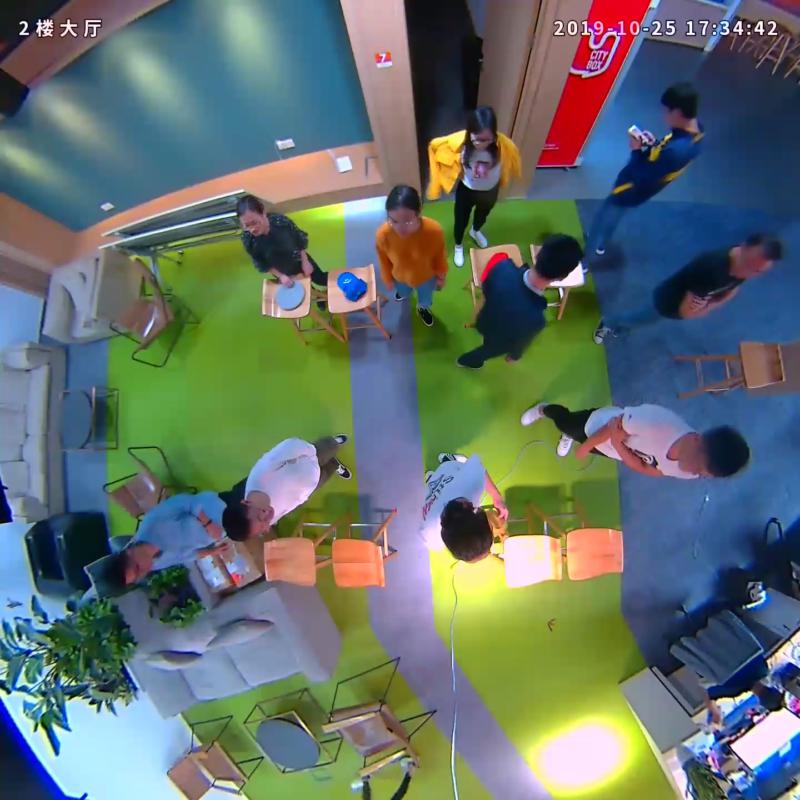head: (675, 423, 753, 484), (432, 496, 495, 567), (526, 233, 589, 294), (373, 182, 434, 237), (733, 228, 790, 284), (220, 493, 276, 549), (97, 544, 155, 597), (657, 78, 709, 132), (229, 194, 279, 241), (459, 104, 501, 153)
